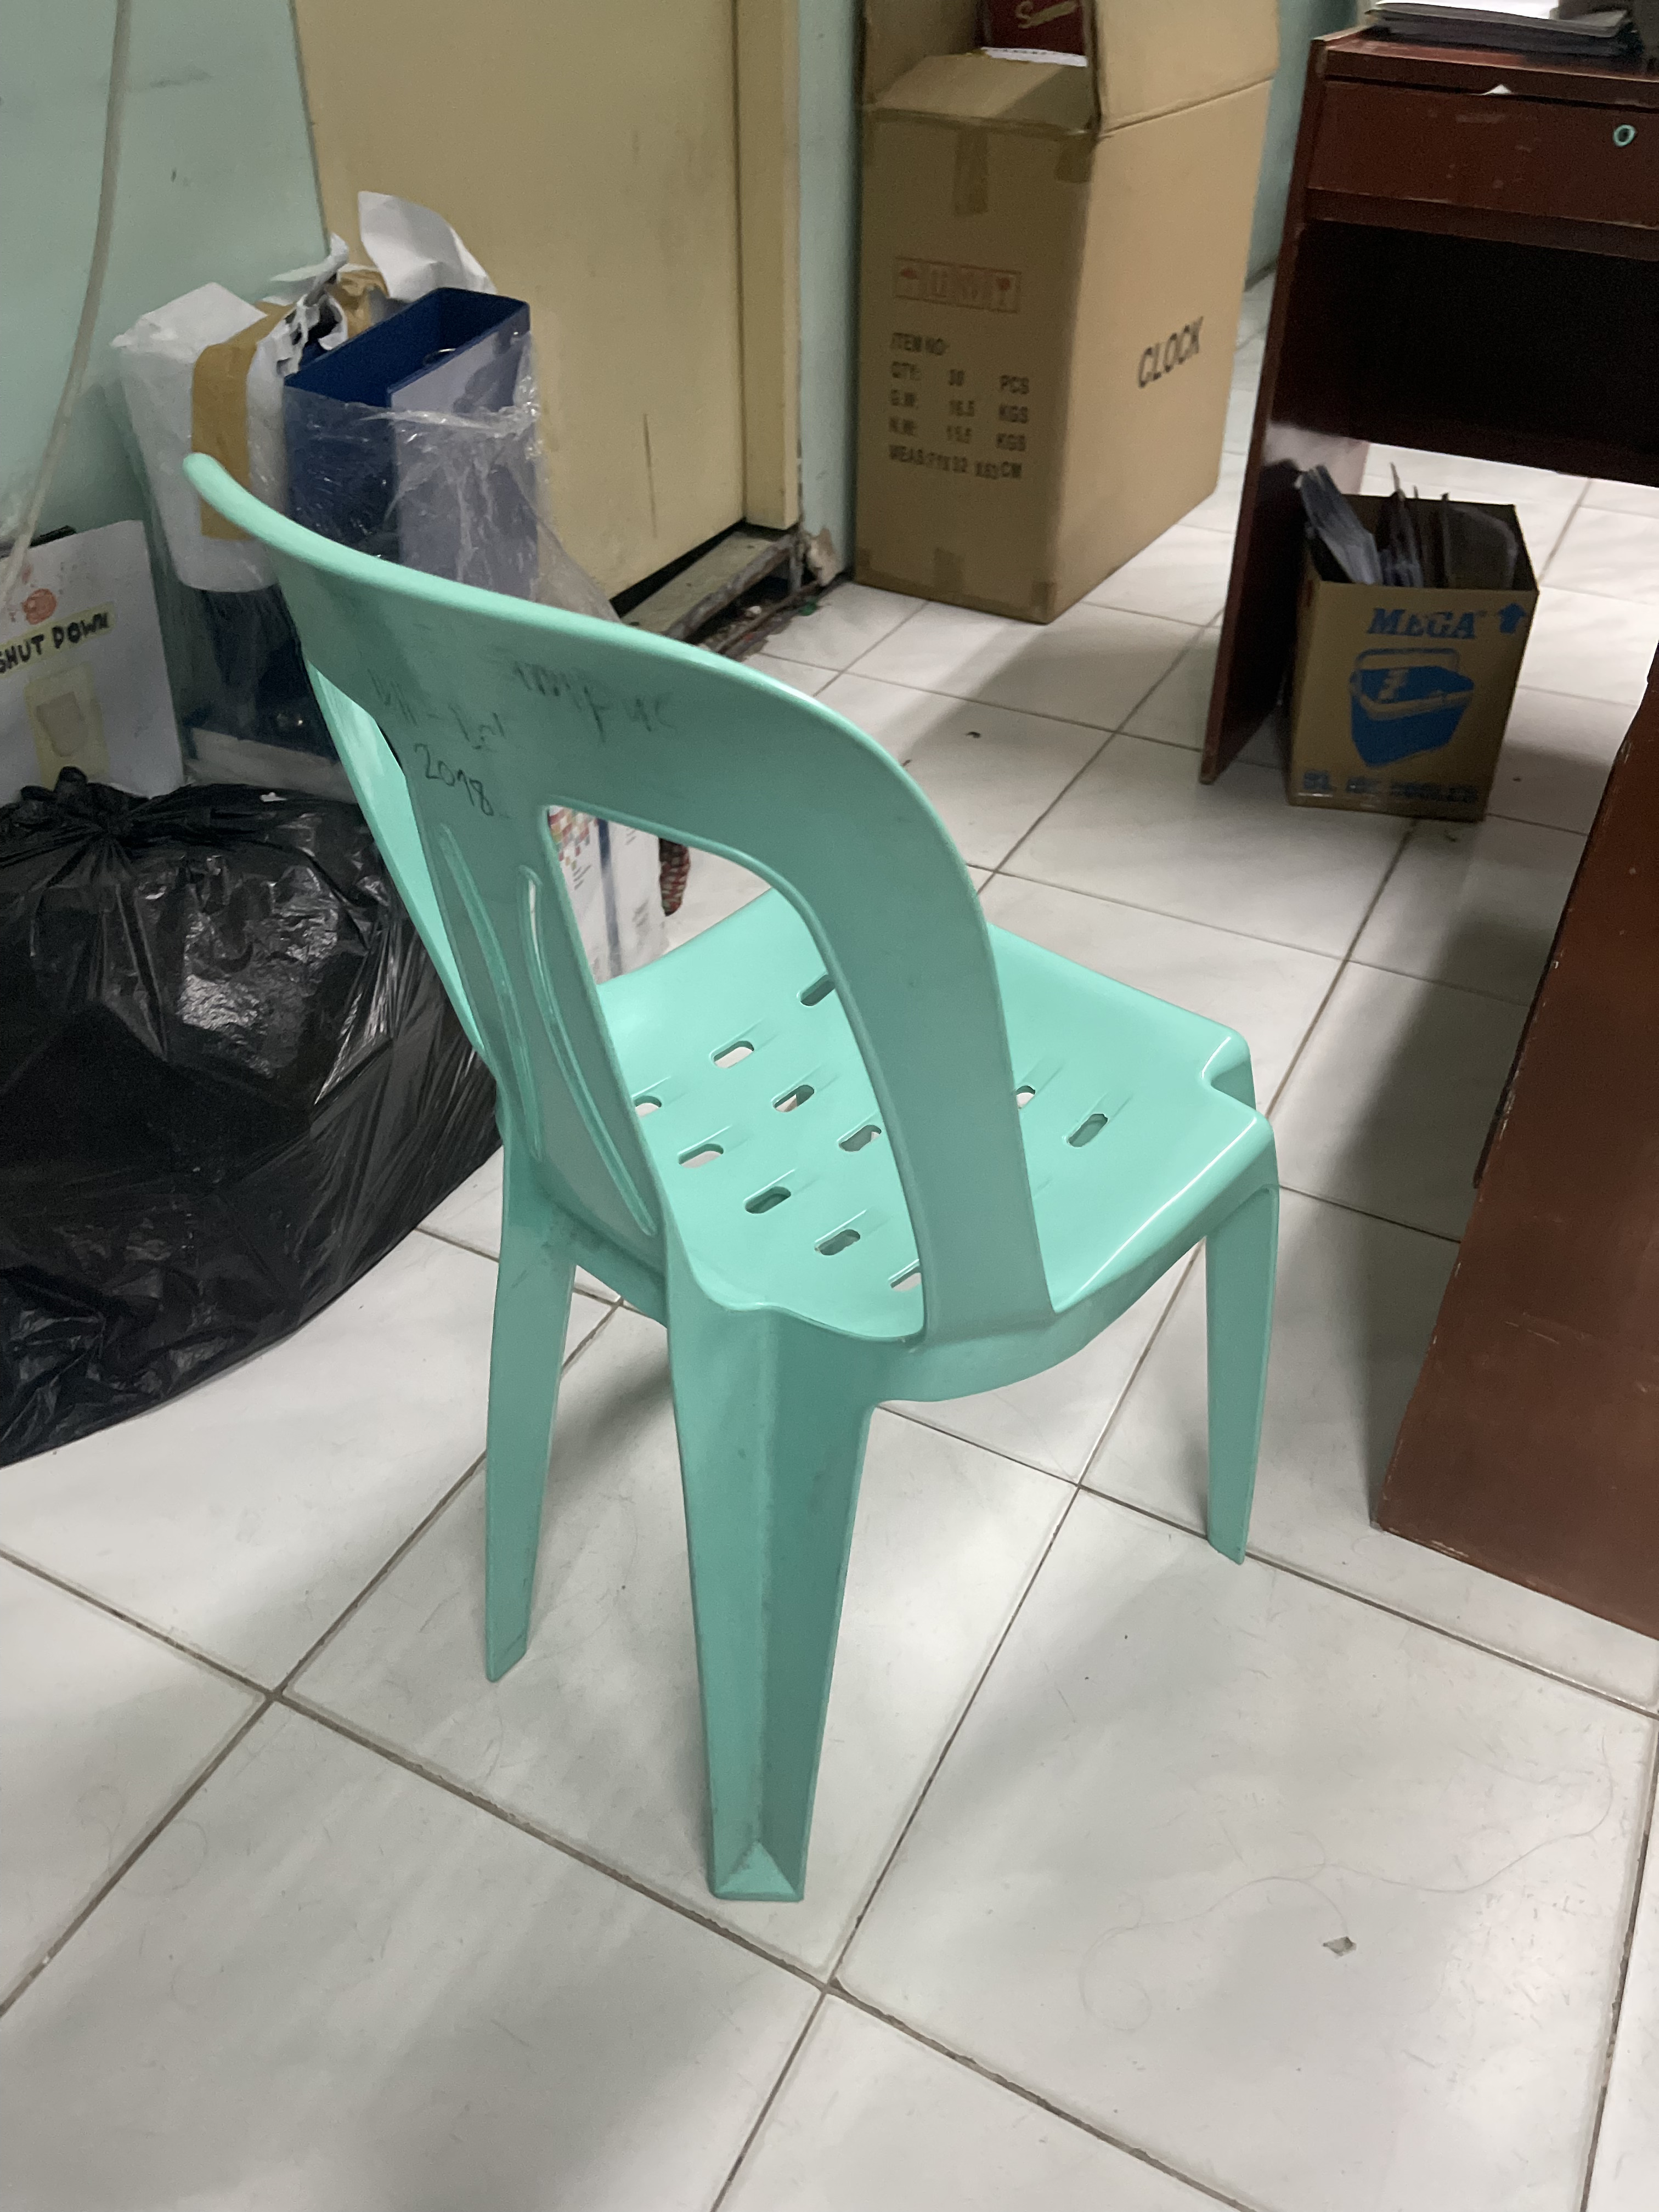chair2: (183, 446, 1291, 1937)
